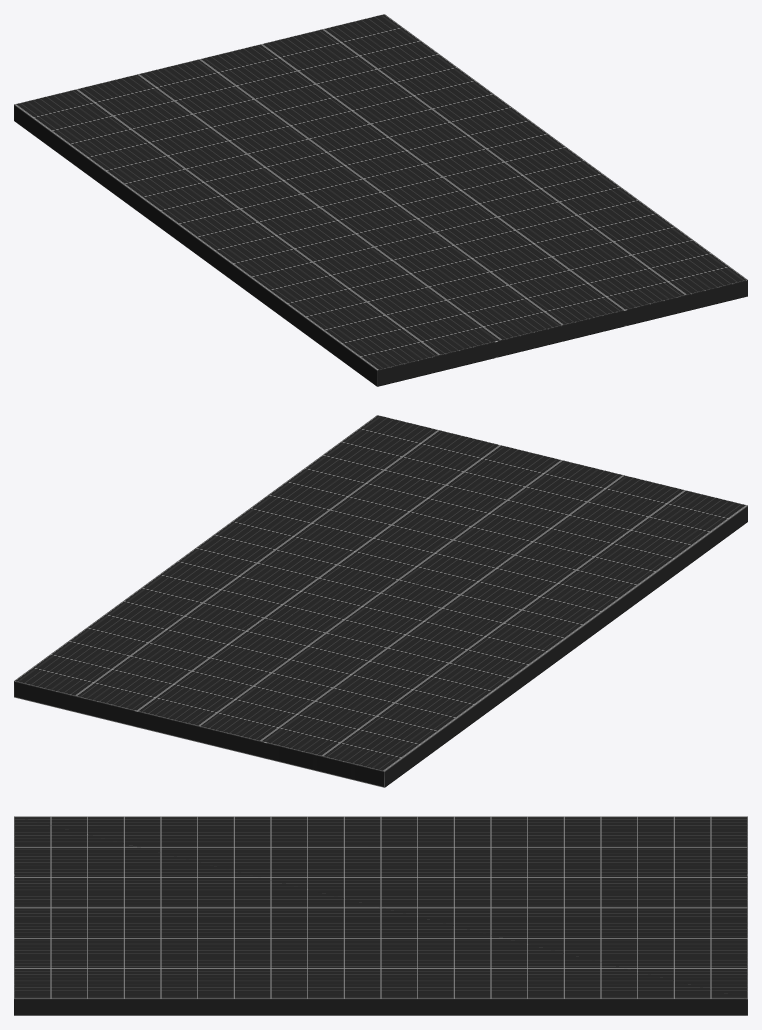
File: panneau.glb
The picture shows the model from 3 angles, top to bottom: view 1: azimuth 30°, elevation 25°; view 2: azimuth 150°, elevation 25°; view 3: azimuth 270°, elevation 25°; orthographic projection.
Parts seen in each view (by area): view 1: LOW_Solarmodul_Dachmontage; view 2: LOW_Solarmodul_Dachmontage; view 3: LOW_Solarmodul_Dachmontage.
Boxes of the visible parts, x1,y1,x2,y2 form: LOW_Solarmodul_Dachmontage: (14, 14, 747, 386); LOW_Solarmodul_Dachmontage: (14, 415, 747, 787); LOW_Solarmodul_Dachmontage: (14, 816, 747, 1015).
Bounding box in the file's own units: 1.05 × 0.0446 × 1.78.
Materials: 1 (1 with a texture image).
